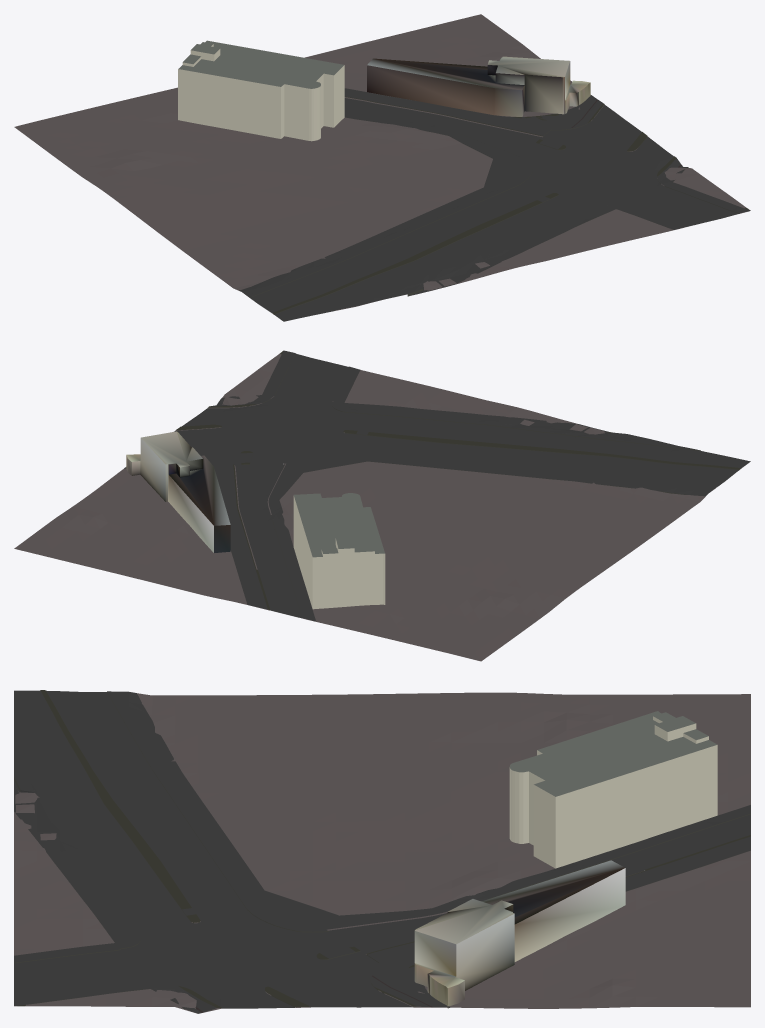
3 views of the same model, one above another, from view 1: azimuth 30°, elevation 25°; view 2: azimuth 150°, elevation 25°; view 3: azimuth 270°, elevation 25° (orthographic). The views are drawn at different scales.
Visible parts, largest first — view 1: c_m22_p05; view 2: c_m22_p05; view 3: c_m22_p05.
Part boxes in pixels (box(x1,y1,x2,y2)): c_m22_p05: box(14, 14, 750, 321); c_m22_p05: box(14, 350, 750, 661); c_m22_p05: box(14, 690, 750, 1013).
Size of the model in its own units: 128 by 16.8 by 128.
